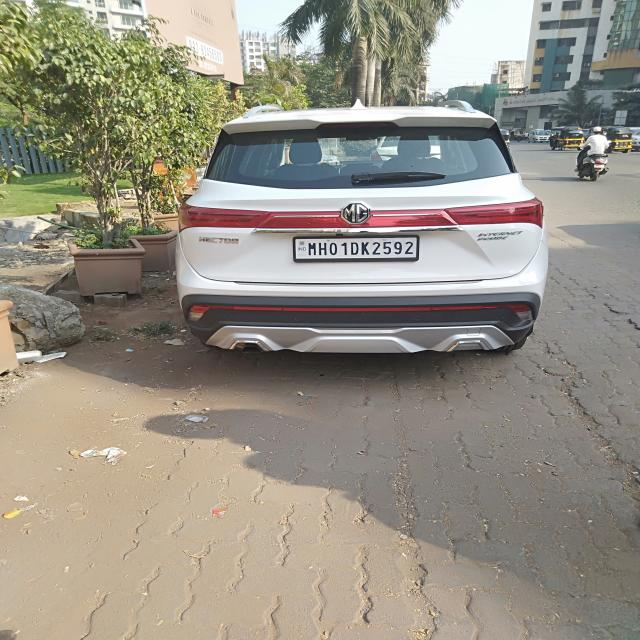Number-Plate: (297, 237, 418, 260)
